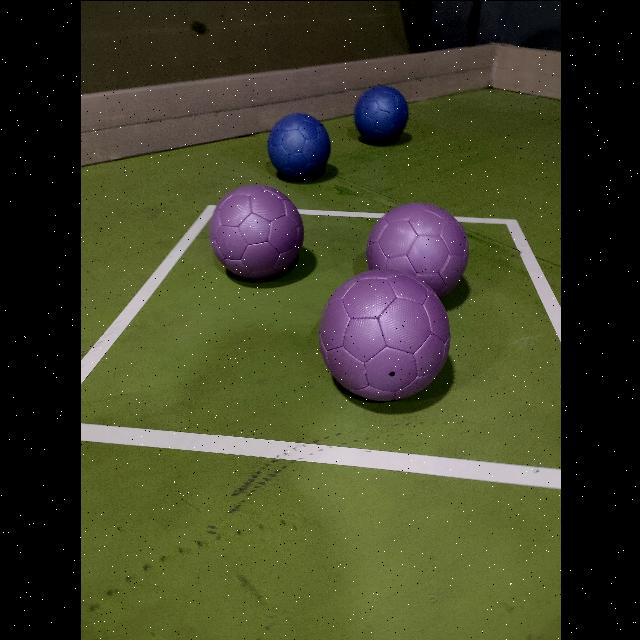B: (266, 112, 330, 178), (353, 86, 407, 142)
P: (318, 269, 449, 399), (362, 200, 462, 300), (208, 184, 302, 278)
